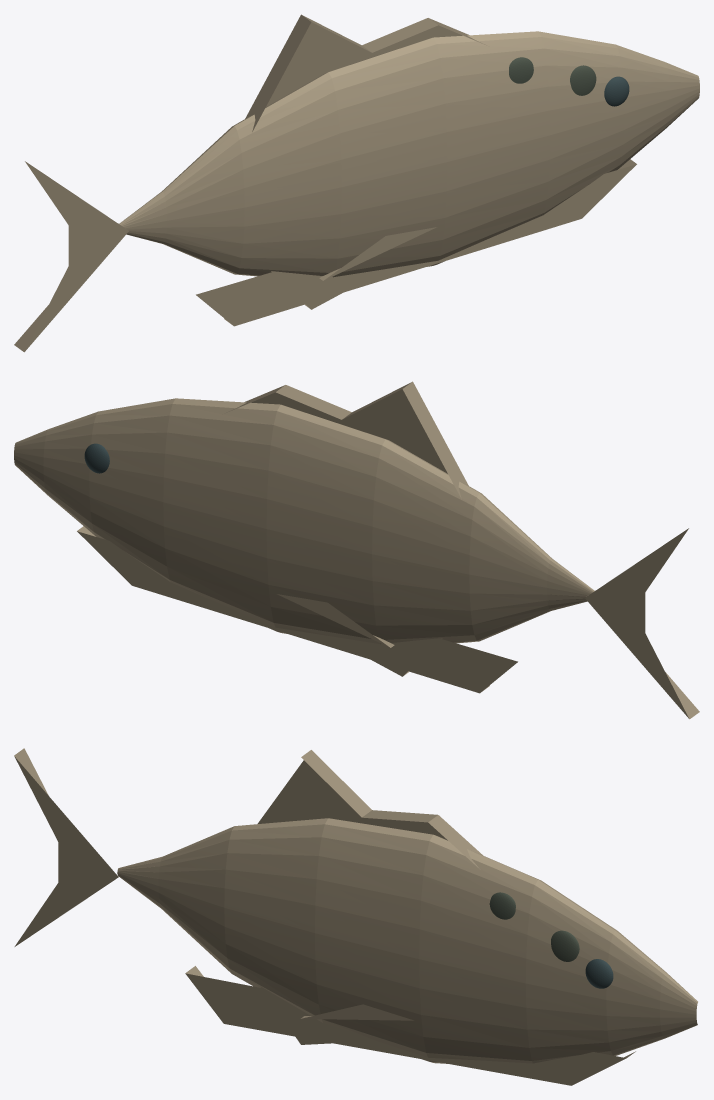
Rendered from flounder.glb.
The picture shows the model from 3 angles, top to bottom: view 1: azimuth 30°, elevation 25°; view 2: azimuth 150°, elevation 25°; view 3: azimuth 330°, elevation 25°; orthographic projection.
Visible parts, largest first — view 1: body, long-anal, dorsal, tail, anal, pectoral1, upper-eye0, eye1, upper-eye1; view 2: body, long-anal, dorsal, tail, anal, pectoral-1, eye-1; view 3: body, long-anal, dorsal, tail, anal, pectoral1, upper-eye0, eye1, upper-eye1.
Boxes of the visible parts, x1,y1,x2,y2 form: body: (119,31,699,277); long-anal: (196,159,636,326); dorsal: (245,14,486,131); tail: (14,161,128,352); anal: (271,269,386,309); pectoral1: (319,227,436,280); upper-eye0: (570,65,596,95); eye1: (604,76,629,106); upper-eye1: (509,57,533,83); body: (14,398,594,644); long-anal: (77,526,517,693); dorsal: (226,381,468,498); tail: (585,528,699,719); anal: (326,635,442,676); pectoral-1: (277,594,394,647); eye-1: (84,443,109,473); body: (117,818,697,1063); long-anal: (185,966,635,1085); dorsal: (257,750,482,869); tail: (14,748,119,946); anal: (261,987,375,1044); pectoral1: (301,1004,413,1020); upper-eye0: (551,930,579,961); eye1: (585,959,613,988); upper-eye1: (489,892,515,919).
Bounding box in the file's own units: 2.64 × 1.07 × 0.19.
